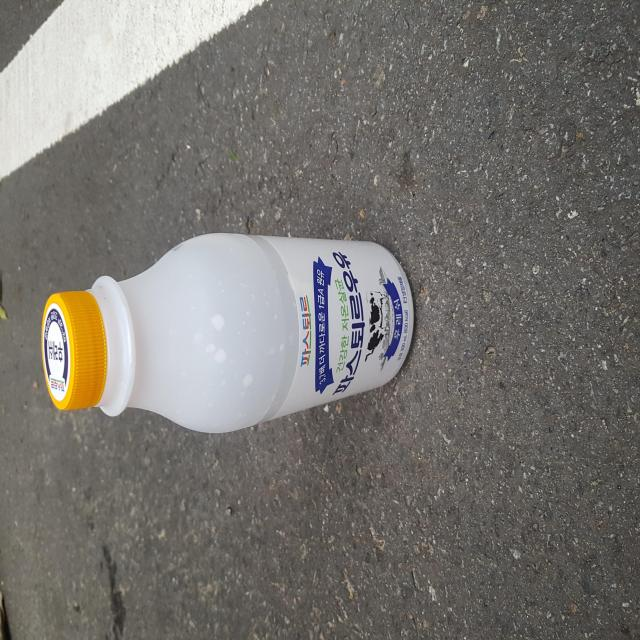bottle: (41, 232, 416, 437)
